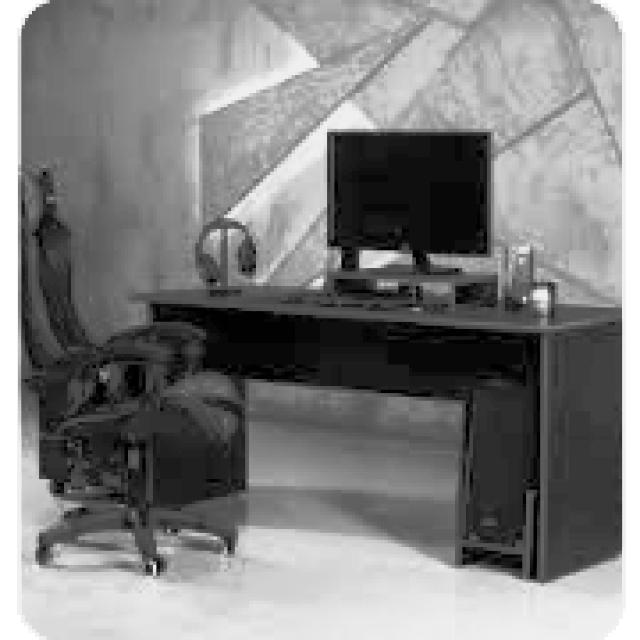book: (18, 164, 245, 576)
table: (128, 282, 622, 580)
